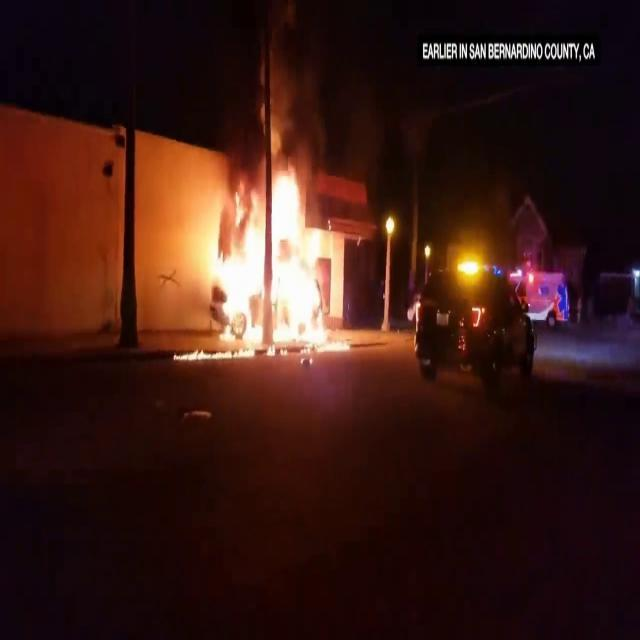Fire: (202, 147, 338, 357)
Smoke: (262, 1, 328, 172)
